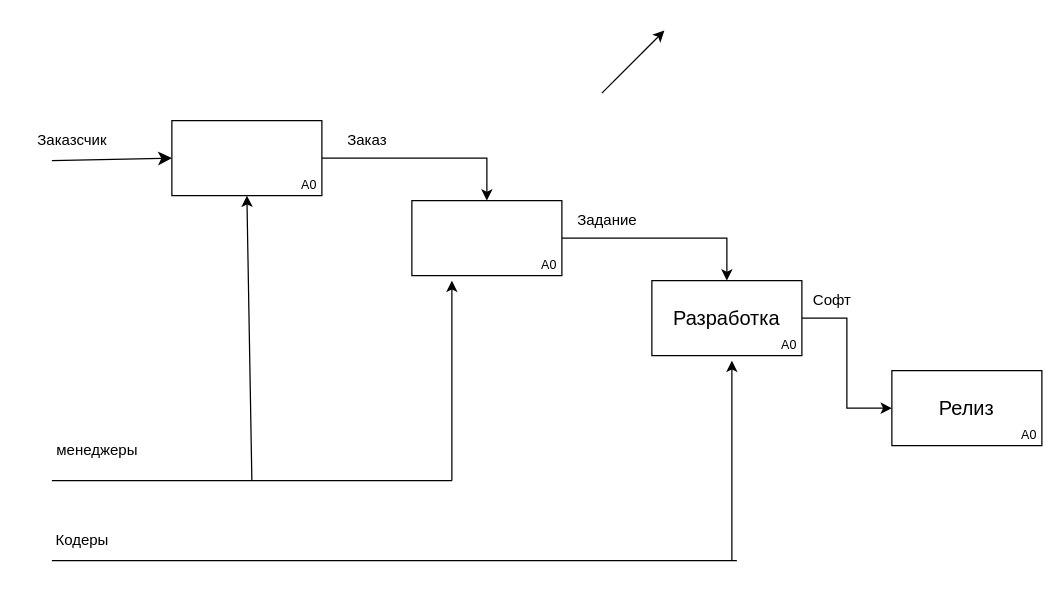
This 1064x593 diagram has some shape labels left out. Here are the shapes that lost their labels. From the top down, the box of each, then its label:
(171, 119, 322, 196): Получение заказа
(411, 199, 562, 276): Распределение кодеров
